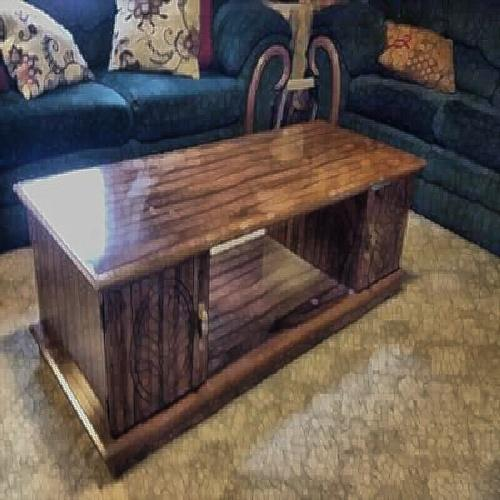table: (27, 128, 411, 389)
